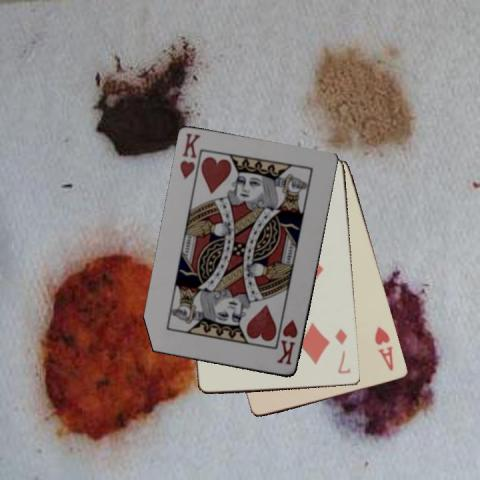7d: (332, 326, 352, 376)
Ah: (372, 323, 395, 373)
Kh: (176, 130, 202, 181), (274, 316, 299, 366)
